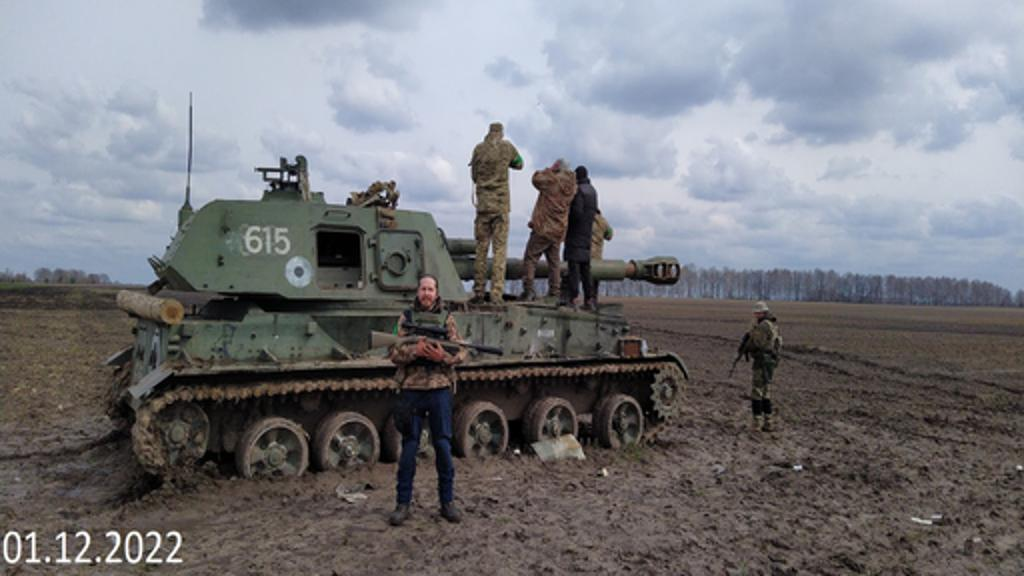ART: (106, 172, 692, 456)
